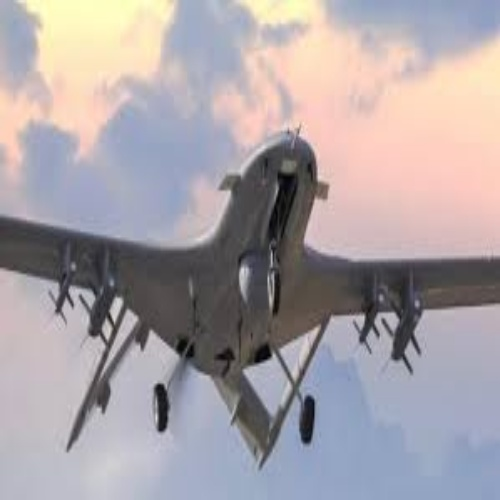uav204: (1, 121, 500, 468)
